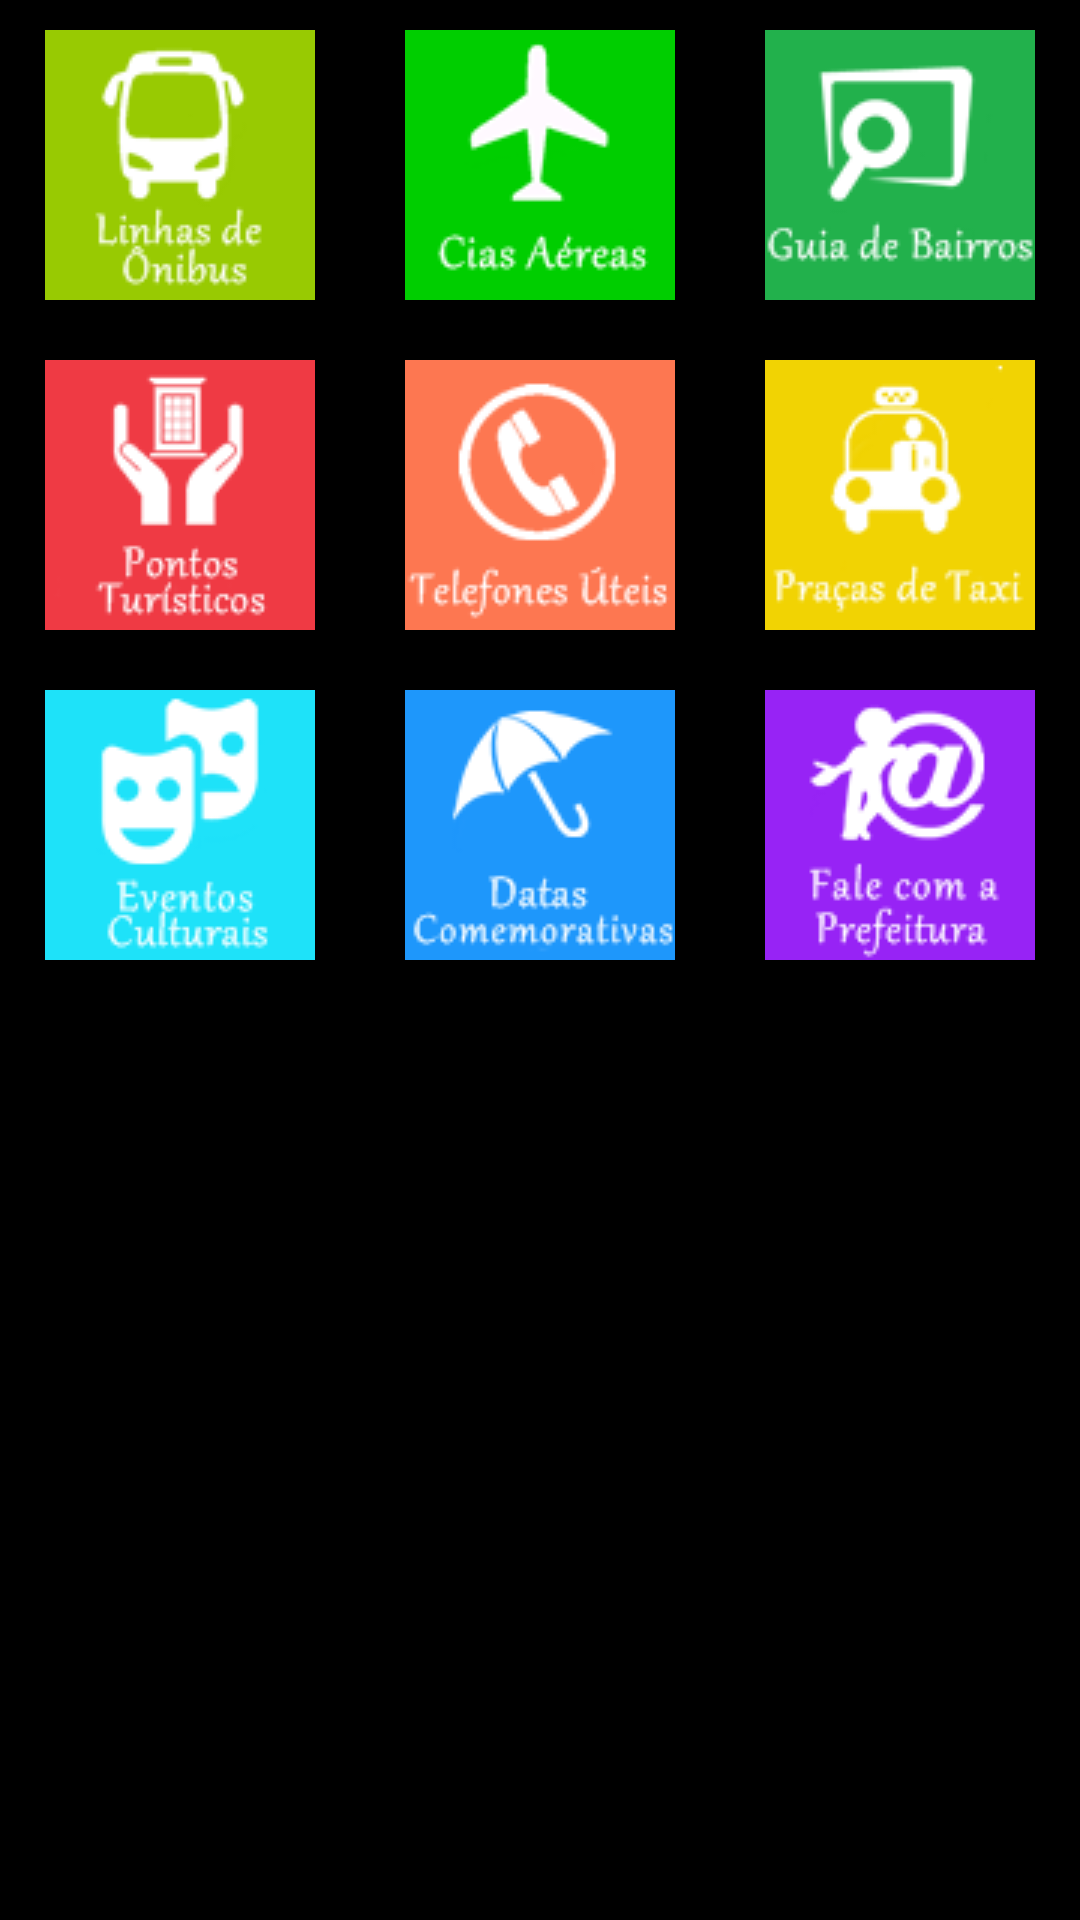

Where to tap for icons on this 1080px×1920px app screen, as [x,y]:
Avião: [540,165]
